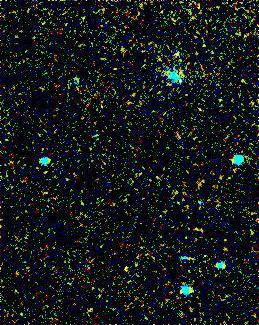star: (186, 215, 216, 245)
